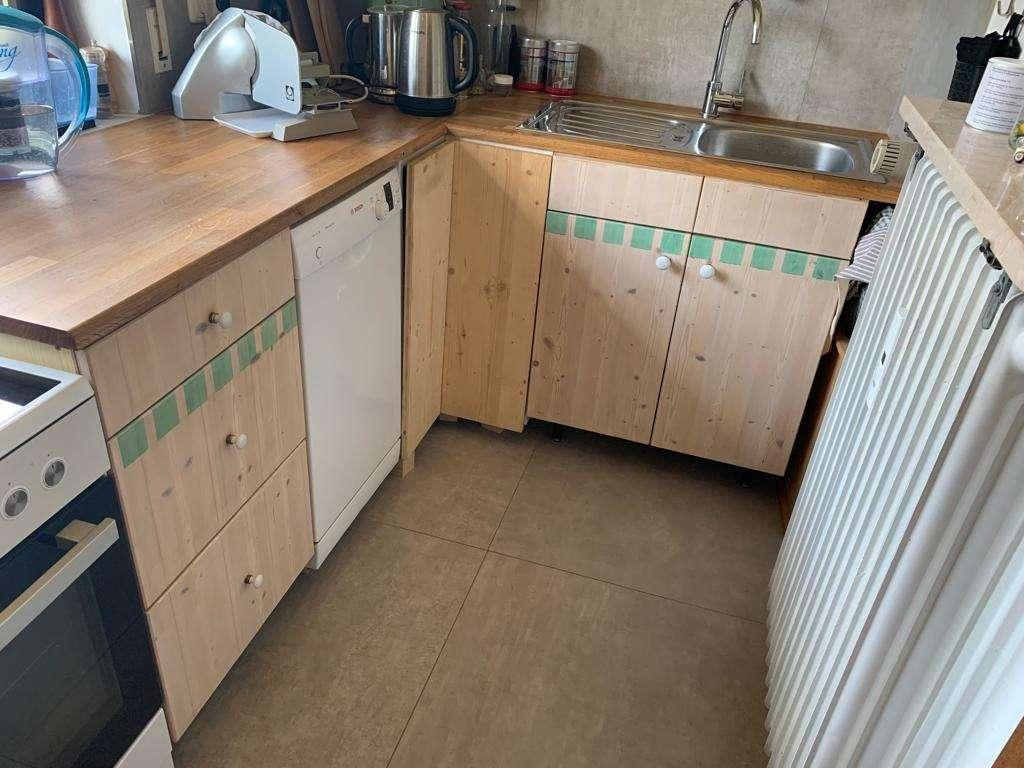cabinet_door: (680, 240, 836, 457), (533, 222, 673, 439), (159, 512, 320, 670), (449, 147, 536, 420), (124, 382, 306, 501), (94, 281, 282, 351), (404, 160, 446, 437), (696, 180, 859, 250), (542, 164, 691, 223)
handle: (220, 419, 249, 454), (207, 308, 237, 339), (239, 569, 266, 594), (648, 252, 673, 278), (696, 260, 717, 287)
